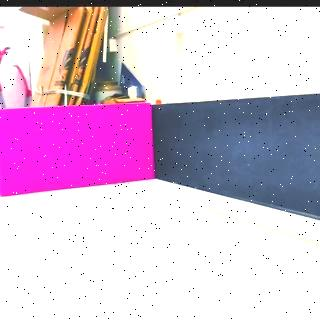xparking: (0, 109, 149, 193)
